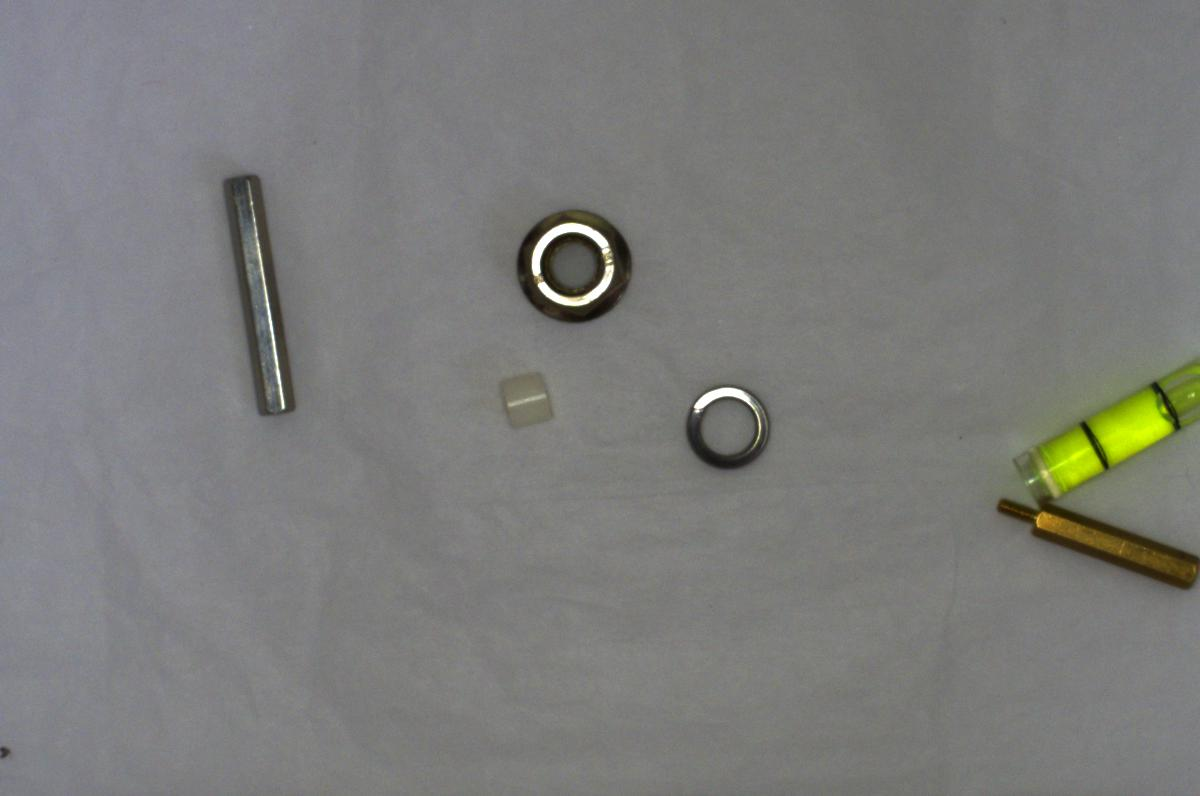Double hexagonal column: (214, 163, 308, 421)
Flange nut: (500, 198, 661, 329)
Hexagon pillar: (993, 493, 1199, 593)
Horizontal bubble: (1010, 352, 1199, 503)
Plastic cushion pillar: (475, 362, 567, 438)
Spring washer: (682, 378, 774, 472)
